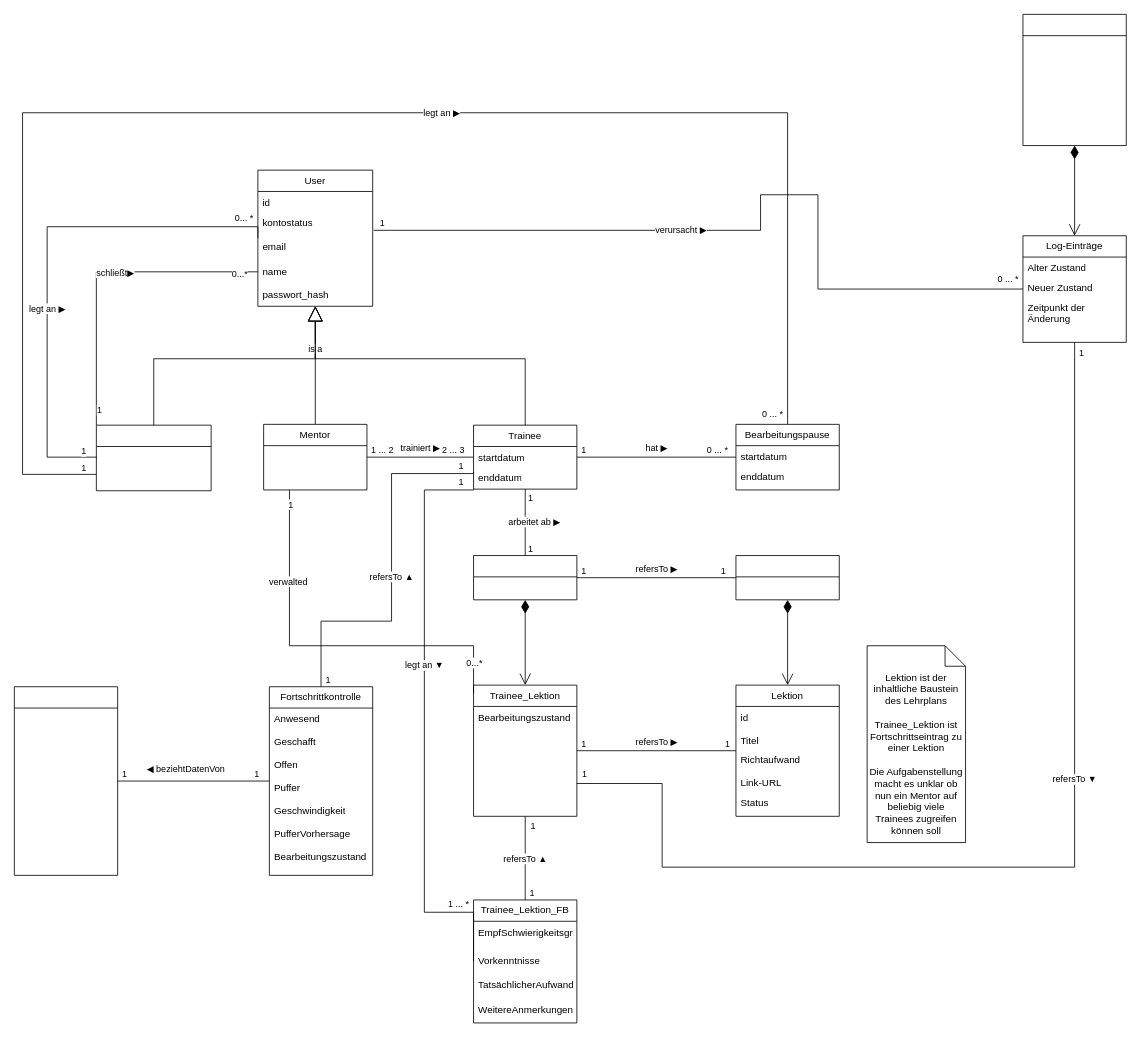
Some shapes in this 1141 by 1040 pixel diagram are drawn without their labels. Each missing label, with the centre of its shape:
"Admin" belongs at [153,457].
"Bearbeitungslog" belongs at [1074,80].
"Lehrplan" belongs at [787,577].
"Trainee_Lehrplan" belongs at [525,577].
"Zeiterfassungssystem" belongs at [66,780].
